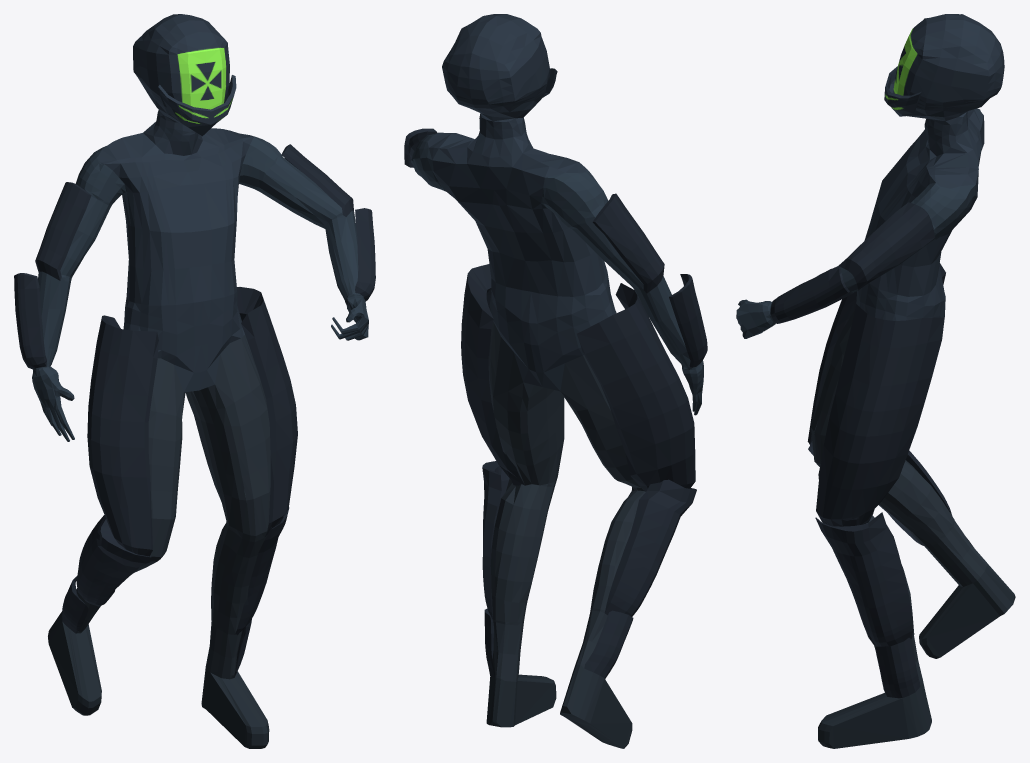
The model's file is Bastion_Hit_000007.obj.
The picture shows the model from 3 angles, left to right: view 1: azimuth 30°, elevation 25°; view 2: azimuth 150°, elevation 25°; view 3: azimuth 270°, elevation 25°; orthographic projection. The views are drawn at different scales.
Parts seen in each view (by area): view 1: Cube.002; view 2: Cube.002; view 3: Cube.002.
Part boxes in pixels (<box>): Cube.002: <box>14,14,375,748</box>; Cube.002: <box>404,14,707,748</box>; Cube.002: <box>736,14,1015,748</box>.
Size of the model in its own units: 1.83 by 3.82 by 1.35.
